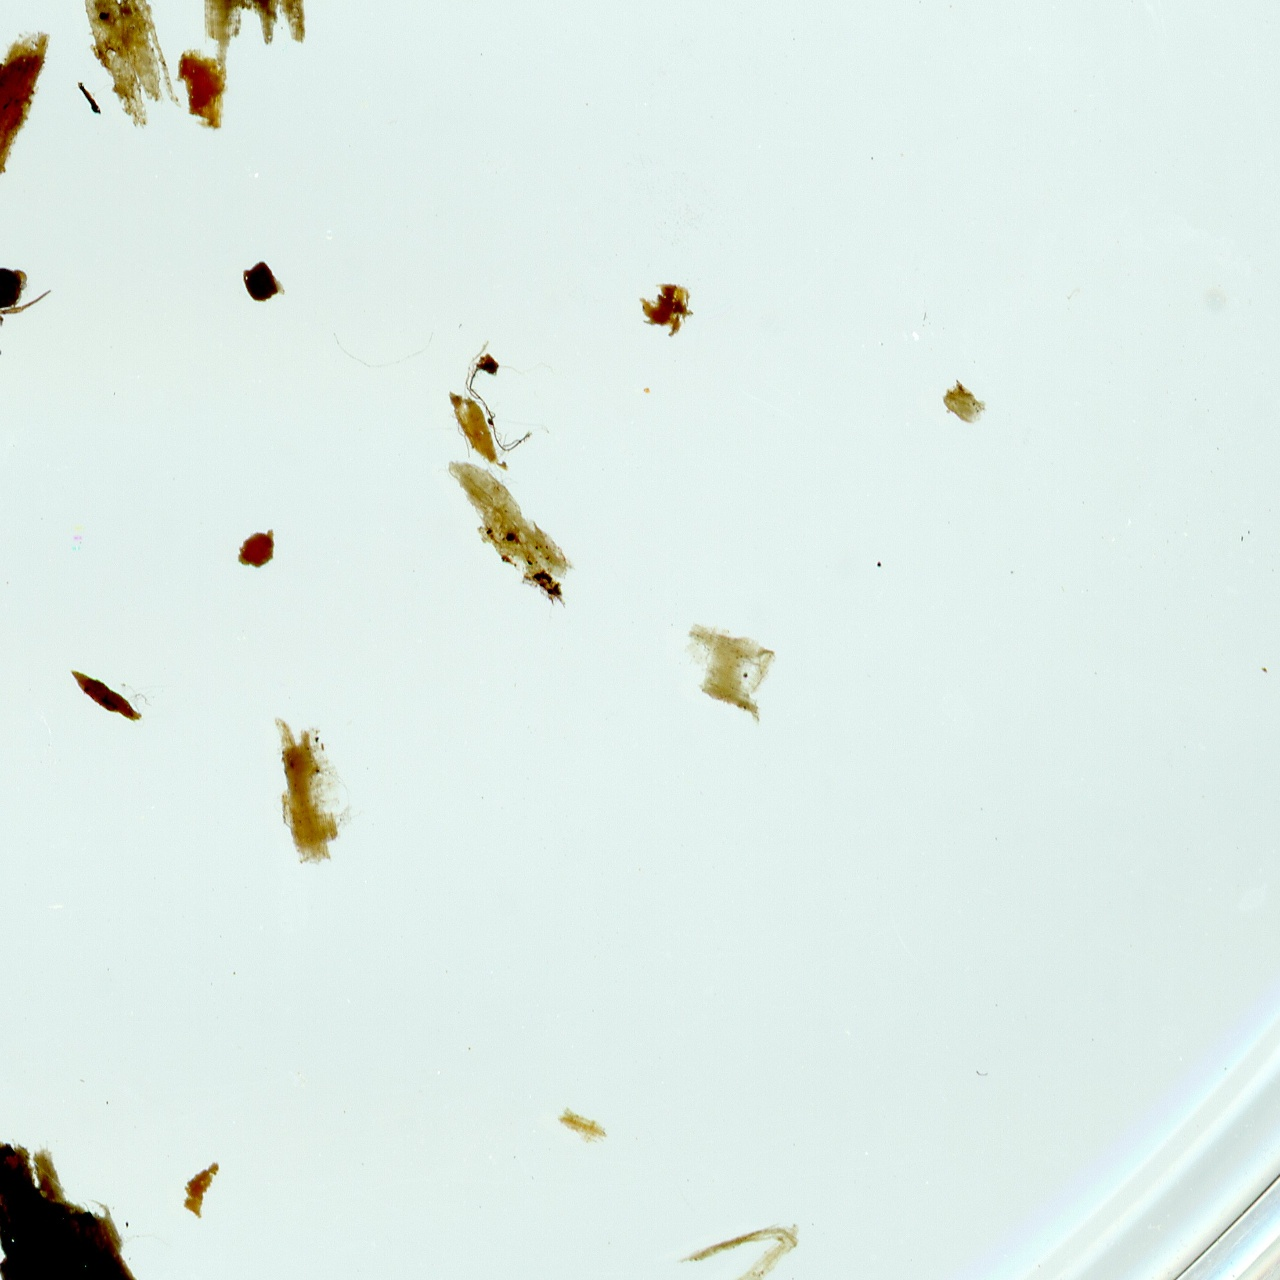arthropod: (0, 260, 59, 363)
